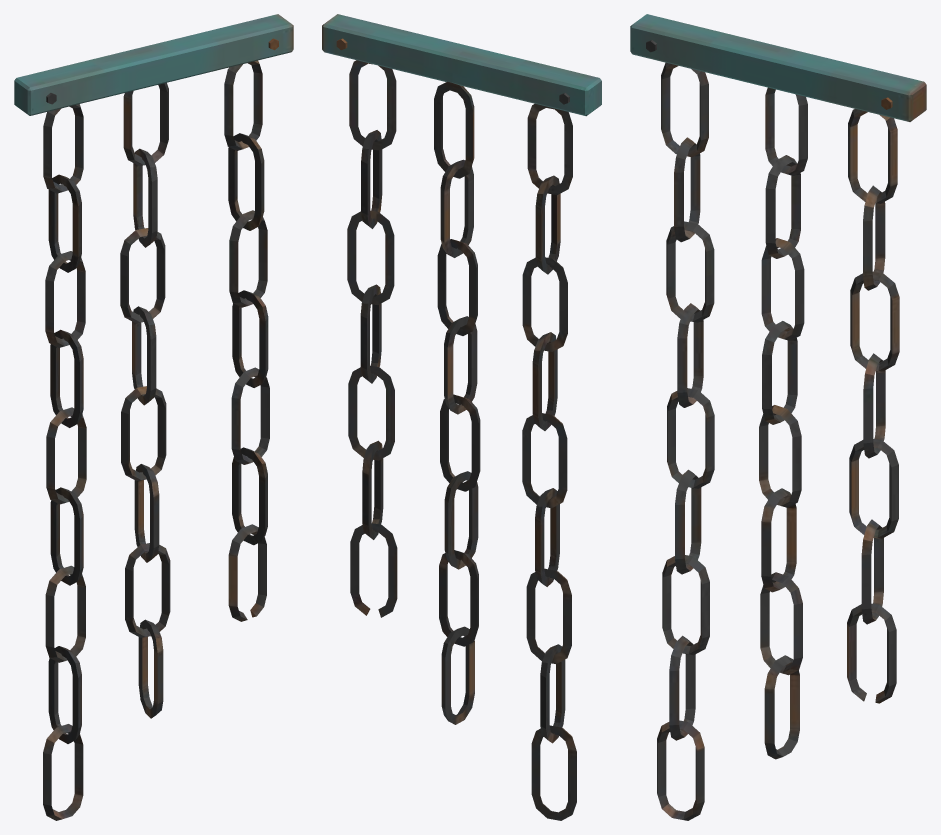
File: F47_hanging_chains.glb
The picture shows the model from 3 angles, left to right: view 1: azimuth 30°, elevation 25°; view 2: azimuth 150°, elevation 25°; view 3: azimuth 330°, elevation 25°; orthographic projection. The views are drawn at different scales.
Parts seen in each view (by area): view 1: Hanging_chains; view 2: Hanging_chains; view 3: Hanging_chains.
Boxes of the visible parts, left/top/right/bottom form: Hanging_chains: left=14, top=14, right=293, bottom=820; Hanging_chains: left=322, top=14, right=601, bottom=820; Hanging_chains: left=630, top=14, right=926, bottom=820.
Size of the model in its own units: 0.7468 by 2 by 0.1737.
Materials: 3 (3 with a texture image).
